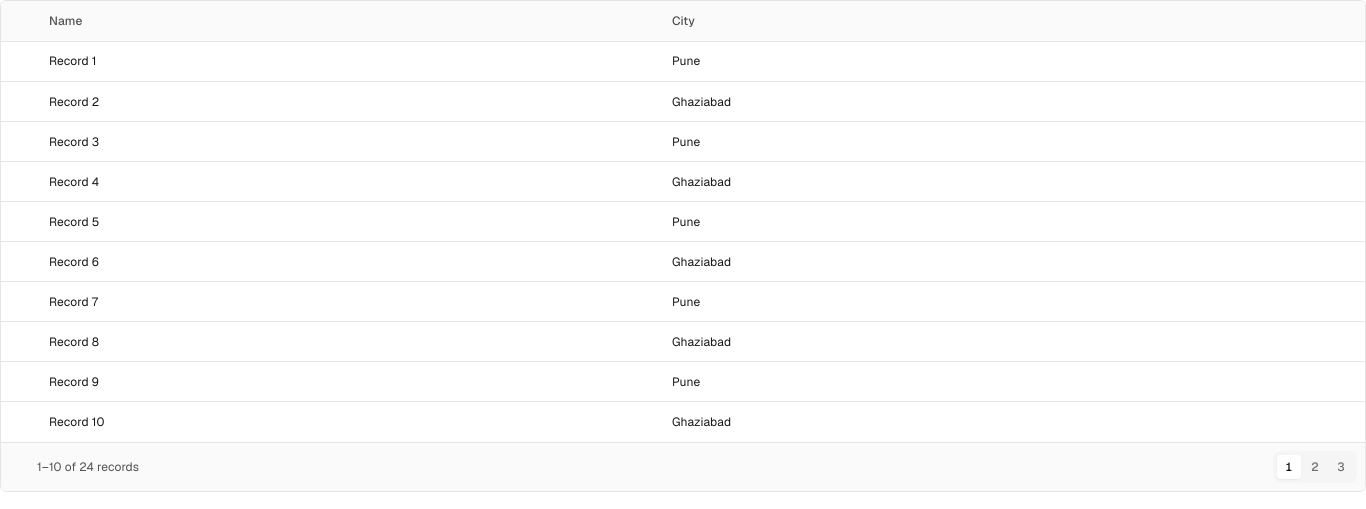
Scenario: what a table does without being asked › sorts on every column heading, numerically, and back again
Click the button "Name": (75, 21) [49, 13, 100, 29]
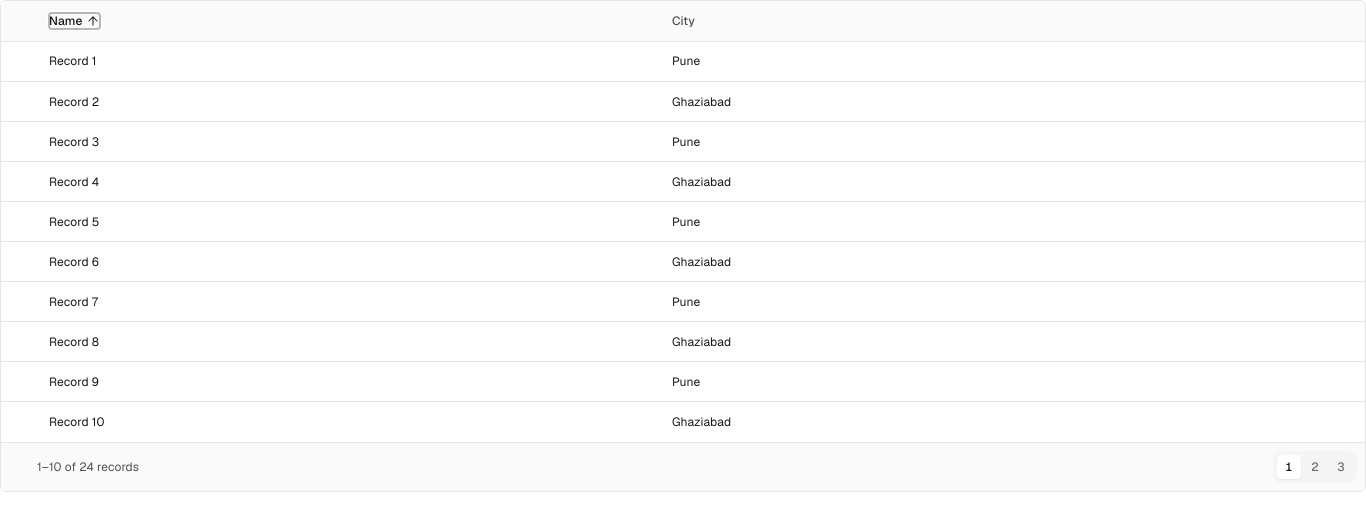
expect the cell "Record 1" is shown: met, box [41, 42, 664, 82]
Click the button "Name": (75, 21) [49, 13, 100, 29]
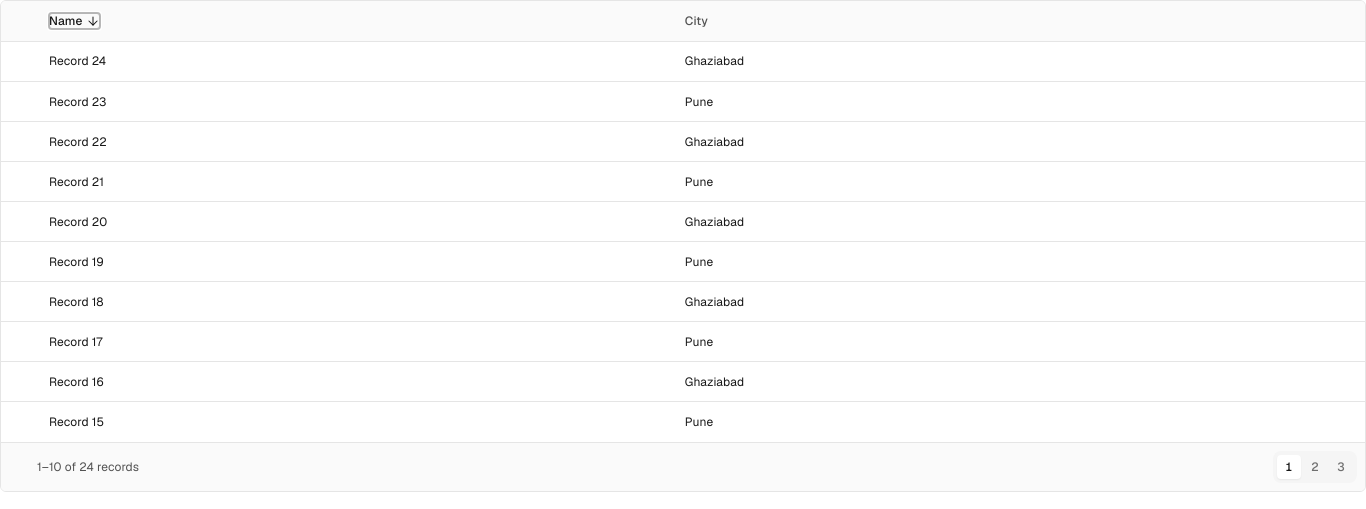
expect the cell "Record 24" is shown: met, box [41, 42, 677, 82]
Click the button "Name": (75, 21) [49, 13, 100, 29]
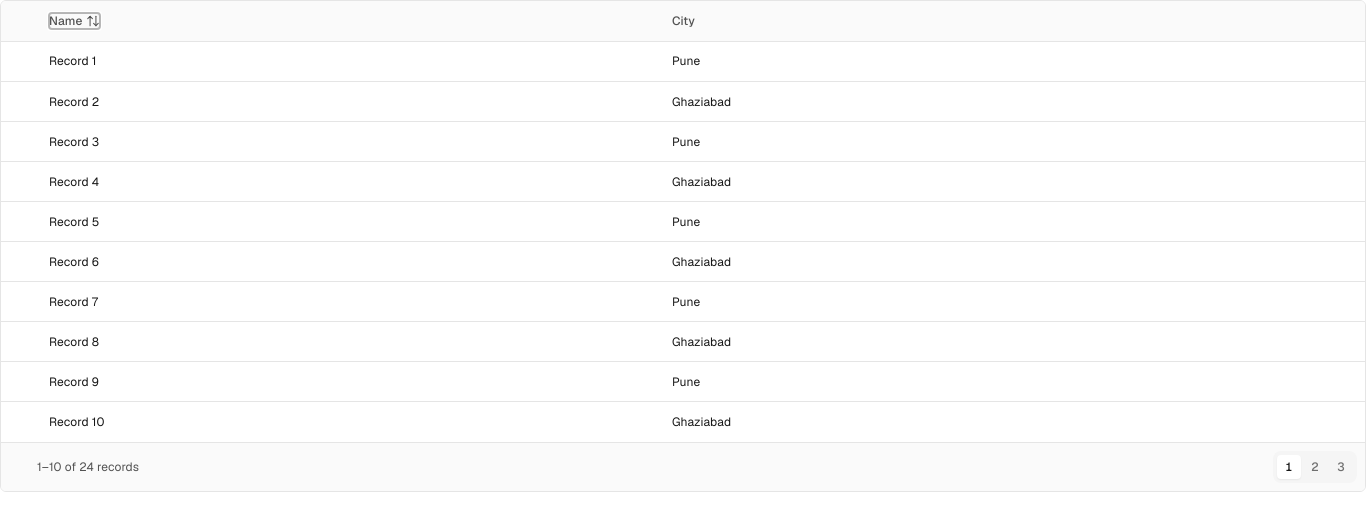
expect the cell "Record 1" is shown: met, box [41, 42, 664, 82]
